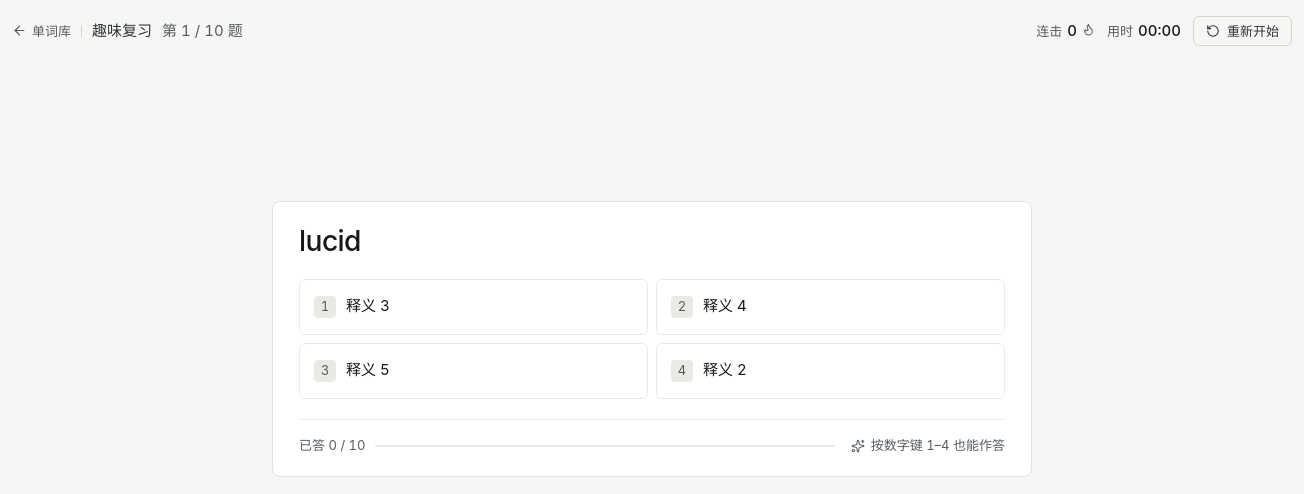
Test: 趣味复习的一局 › 重开一局会清空连击与用时
Step 1. Click the button "4 释义 2" → (725,370), box [656, 343, 1005, 399]
Wait 900 ms
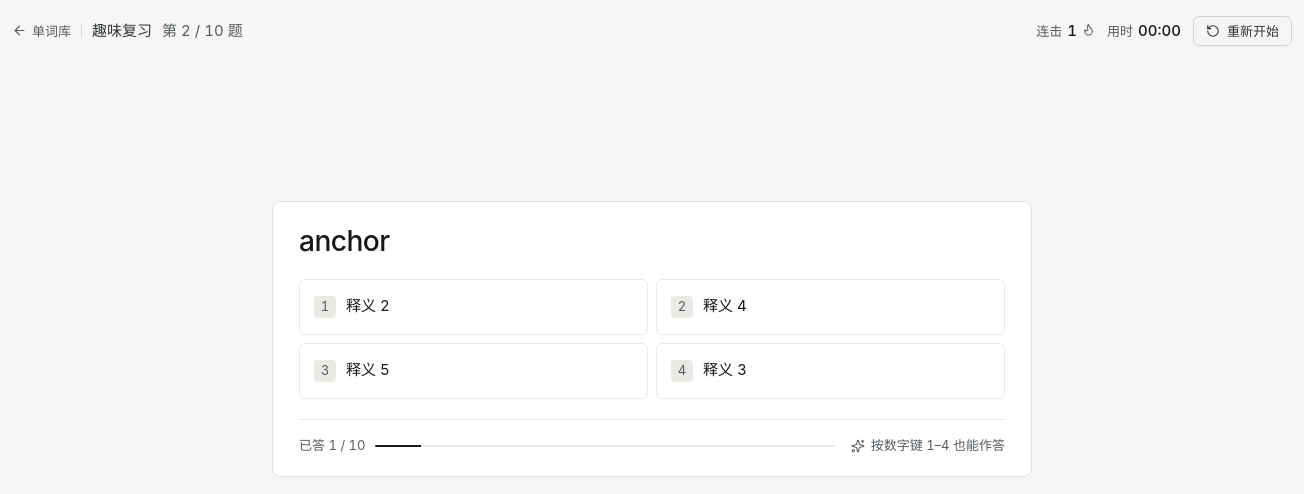
Step 2. Click the button "4 释义 3" → (725,370), box [656, 343, 1005, 399]
Wait 2500 ms
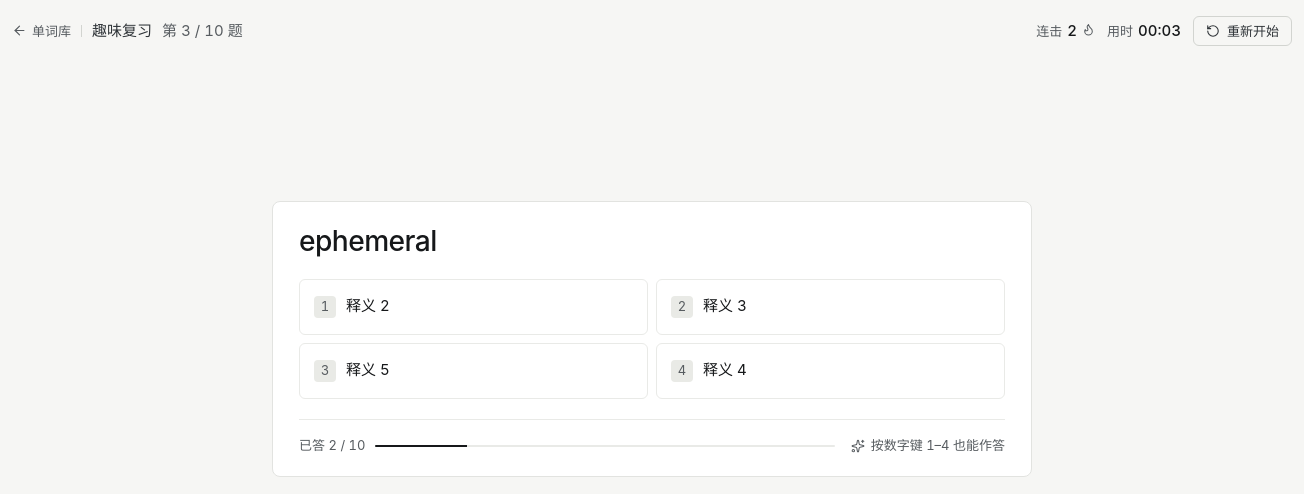
Step 3. Click the button "重新开始" → (1242,31), box [1193, 16, 1292, 46]
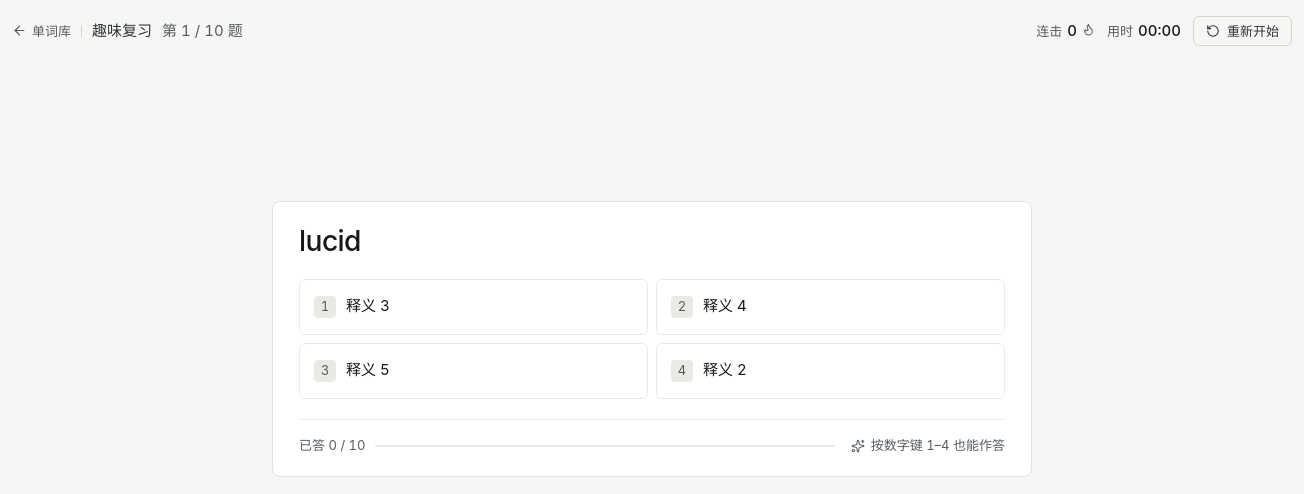
Now the text "第 1 / 10 题" is shown, box [162, 19, 243, 43]
Now the text "已答 0 / 10" is shown, box [299, 435, 366, 456]
Now the text "00:00" is shown, box [1138, 19, 1181, 43]
